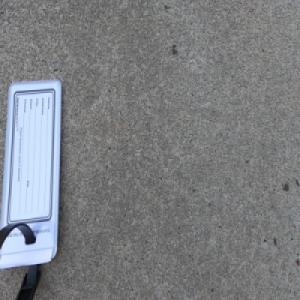LuggageTag: (0, 77, 63, 300)
